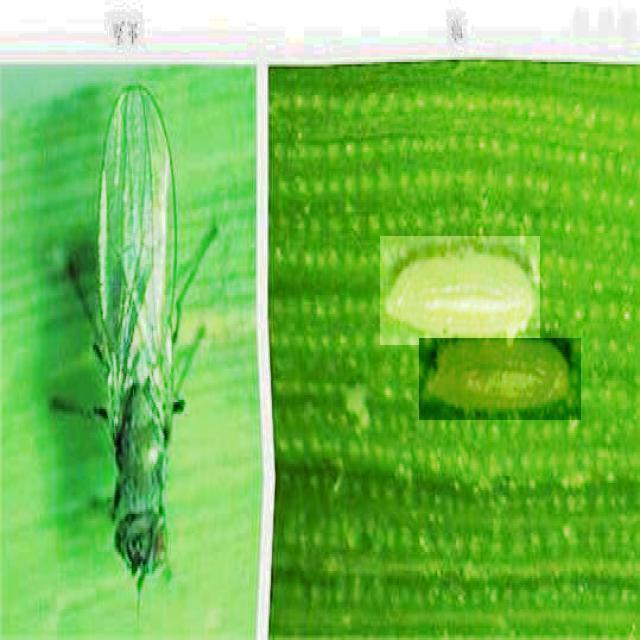whorl-maggot: (380, 236, 540, 345), (419, 338, 581, 420)
